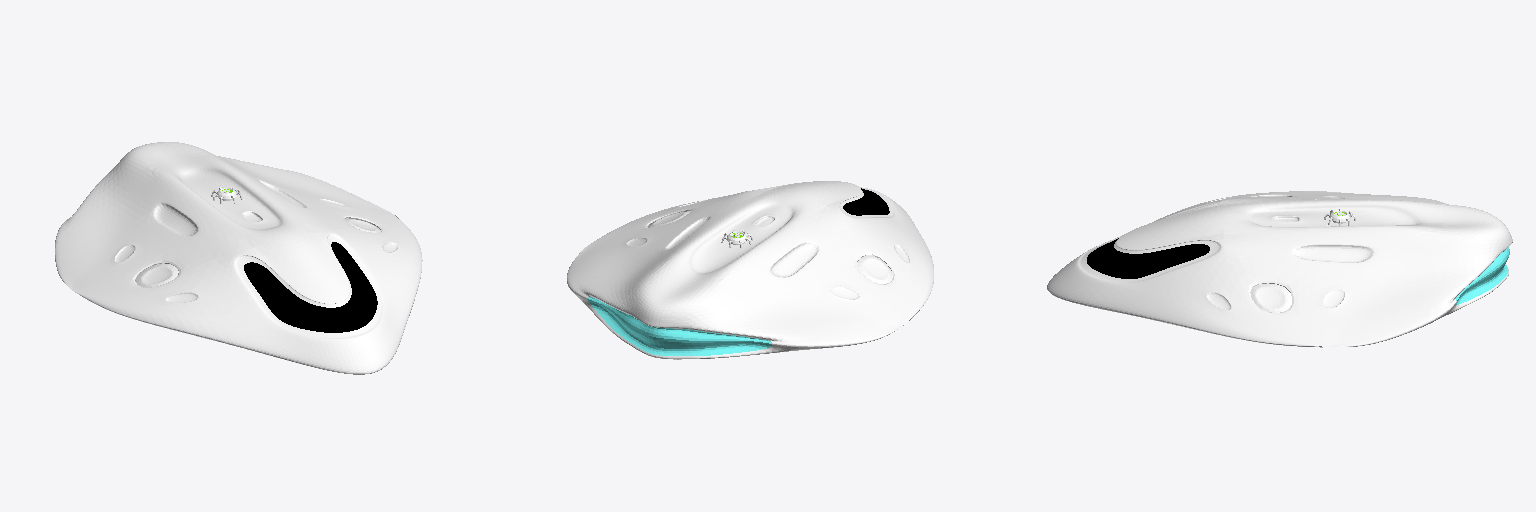
File: X-17 Viper flying.obj
3 views of the same model, side by side, from view 1: azimuth 30°, elevation 25°; view 2: azimuth 150°, elevation 25°; view 3: azimuth 270°, elevation 25° (orthographic).
Size of the model in its own units: 283 by 73.34 by 359.